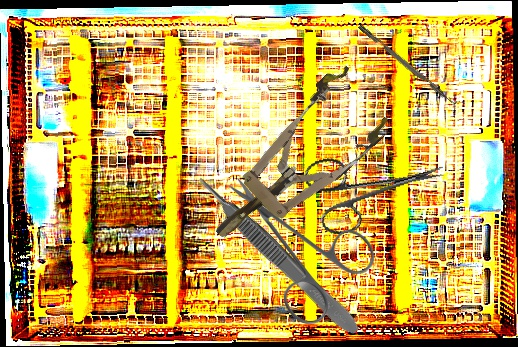Chopper: (357, 19, 462, 109)
Iris Scissors: (229, 178, 375, 324), (301, 131, 454, 240)
Speculum: (188, 60, 400, 265)
Tissue Forceps: (193, 170, 363, 340)
